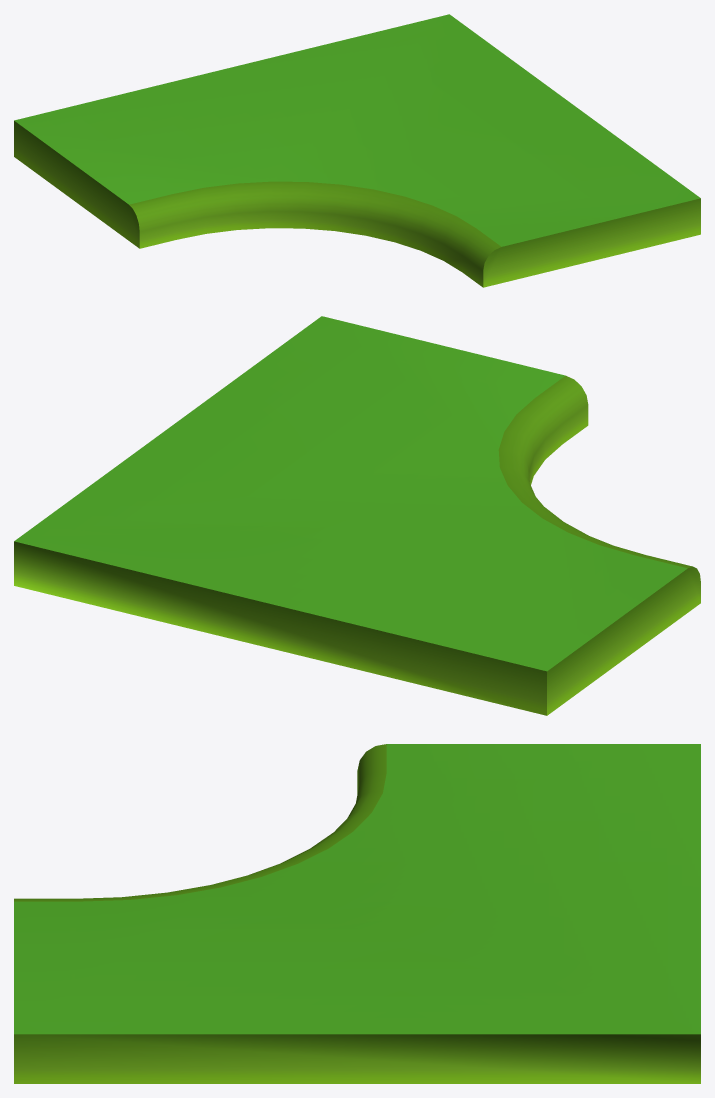
Rendered from GF_ICorner_2_2.glb.
The picture shows the model from 3 angles, top to bottom: view 1: azimuth 30°, elevation 25°; view 2: azimuth 150°, elevation 25°; view 3: azimuth 270°, elevation 25°; orthographic projection. The views are drawn at different scales.
Visible parts, largest first — view 1: GF_ICorner_2_2; view 2: GF_ICorner_2_2; view 3: GF_ICorner_2_2.
Part boxes in pixels (x1,y1,x2,y2): GF_ICorner_2_2: (14, 14, 700, 287); GF_ICorner_2_2: (14, 316, 700, 715); GF_ICorner_2_2: (14, 744, 700, 1083).
Size of the model in its own units: 4 by 0.3187 by 4.
1 material, 1 textured.
